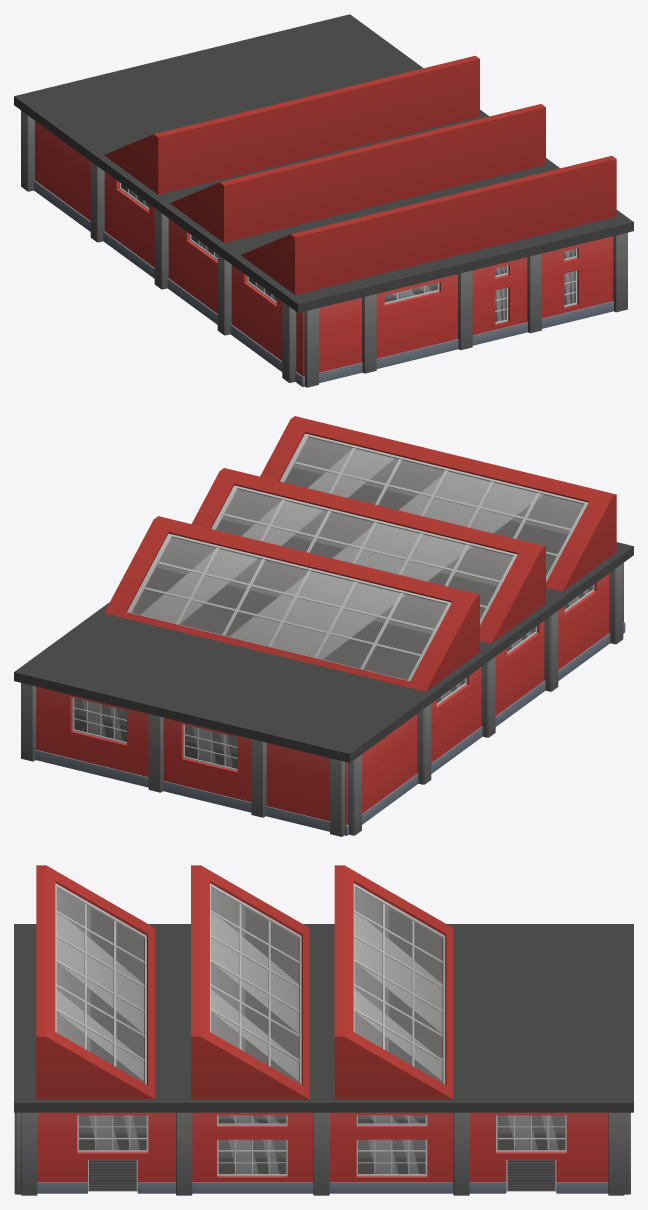
File: Building_Factory_1.fbx
3 renders of one model, top to bottom at view 1: azimuth 30°, elevation 25°; view 2: azimuth 150°, elevation 25°; view 3: azimuth 270°, elevation 25°, orthographic. The views are drawn at different scales.
Parts seen in each view (by area): view 1: Building_Factory_1; view 2: Building_Factory_1; view 3: Building_Factory_1.
Boxes of the visible parts, bbox=[...] form: Building_Factory_1: bbox=[14, 14, 633, 387]; Building_Factory_1: bbox=[14, 416, 633, 836]; Building_Factory_1: bbox=[14, 865, 633, 1195].
Bounding box in the file's own units: 2850 × 1164 × 4173.
